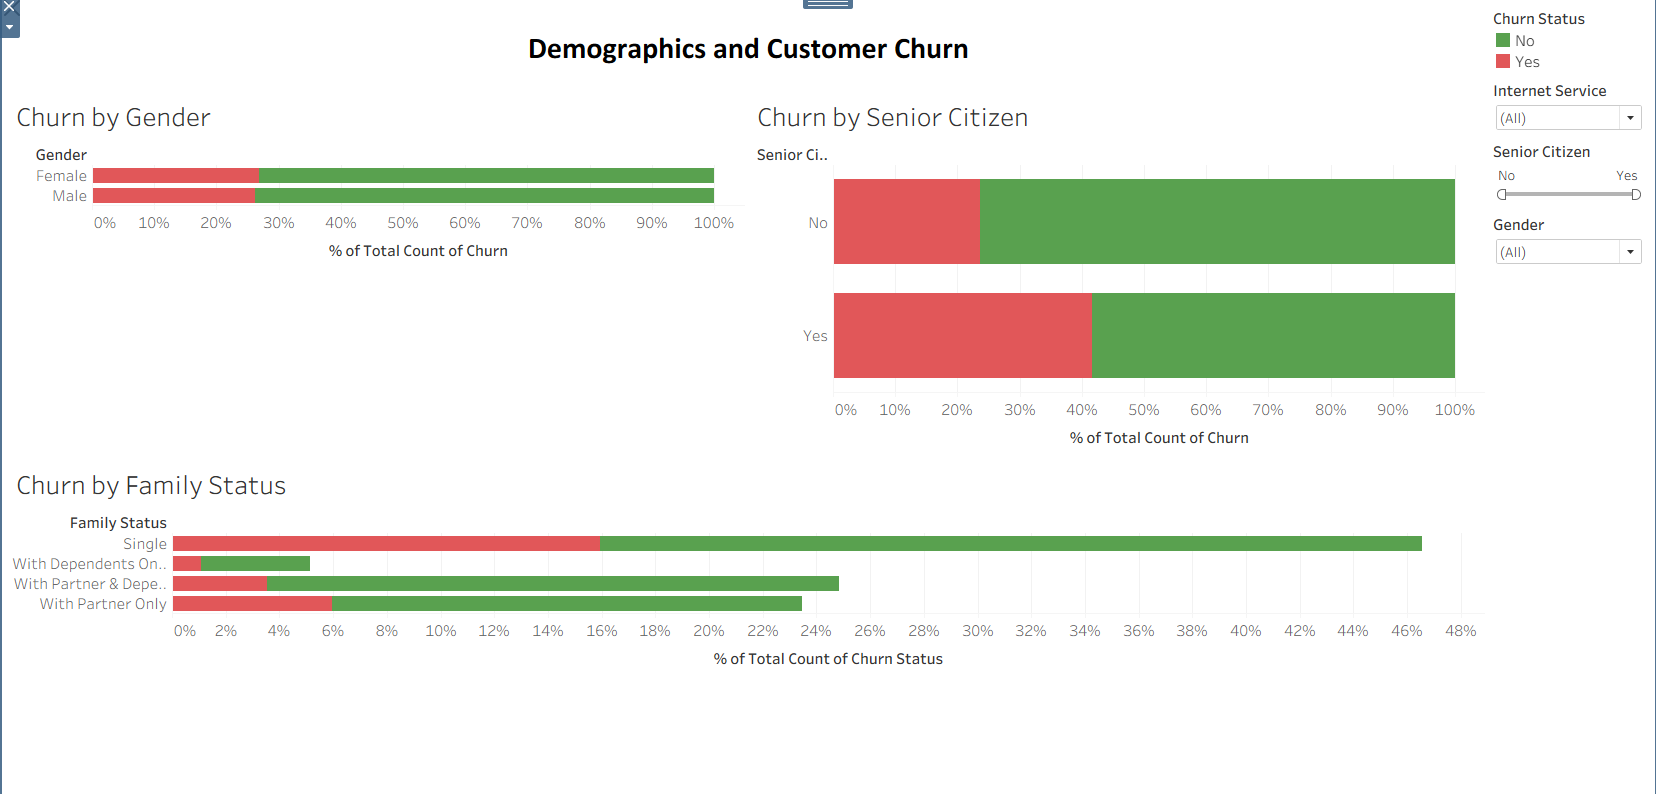

The dashboard page shown, as its layout file describes it:
{"tool":"tableau","page":{"name":"Demographics Dashboard","canvas":[1000,1000],"units":"permille","ordinal":1},"visuals":[{"type":"dashboard-object","box":[0,0,14.5,30]},{"type":"text","box":[4.8,10,893.8,108.6]},{"type":"legend","title":"Churn by Gender","param":"[federated.1h76gci1q36jpl1ed8xuy0itcxqn].[none:Calculation_1668302235085369344:n","box":[898.6,10,96.6,89.9]},{"type":"filter","title":"Churn by Family Status","param":"[federated.1h76gci1q36jpl1ed8xuy0itcxqn].[none:InternetService:nk]","box":[898.6,99.9,96.6,76.2]},{"type":"worksheet","title":"Churn by Gender","mark":"Bar","rows":["gender"],"box":[4.8,118.6,446.9,459.4]},{"type":"worksheet","title":"Churn by Senior Citizen","mark":"Bar","rows":["SeniorCitizen"],"box":[451.7,118.6,446.9,459.4]},{"type":"filter","title":"Churn by Family Status","param":"[federated.1h76gci1q36jpl1ed8xuy0itcxqn].[none:SeniorCitizen:qk]","box":[898.6,176,96.6,91.1]},{"type":"filter","title":"Churn by Family Status","param":"[federated.1h76gci1q36jpl1ed8xuy0itcxqn].[none:gender:nk]","box":[898.6,267.2,96.6,76.2]},{"type":"worksheet","title":"Churn by Family Status","mark":"Bar","rows":["Calculation_1668302235093184527"],"cols":["Calculation_1668302235085369344"],"box":[4.8,578,893.8,412]}]}

Visuals, with their boxes on the dashboard's canvas, which has no fixed pixel size, in thousandths of its width and height (x1, y1, x2, y2). These are canvas units, not pixel positions in the 1656x794 screenshot, which may show the page scaled, cropped or inside an application window:
dashboard-object: 0, 0, 14, 30
text: 5, 10, 899, 119
"Churn by Gender" legend: 899, 10, 995, 100
"Churn by Family Status" filter: 899, 100, 995, 176
"Churn by Gender" worksheet (Bar marks): 5, 119, 452, 578
"Churn by Senior Citizen" worksheet (Bar marks): 452, 119, 899, 578
"Churn by Family Status" filter: 899, 176, 995, 267
"Churn by Family Status" filter: 899, 267, 995, 343
"Churn by Family Status" worksheet (Bar marks): 5, 578, 899, 990
